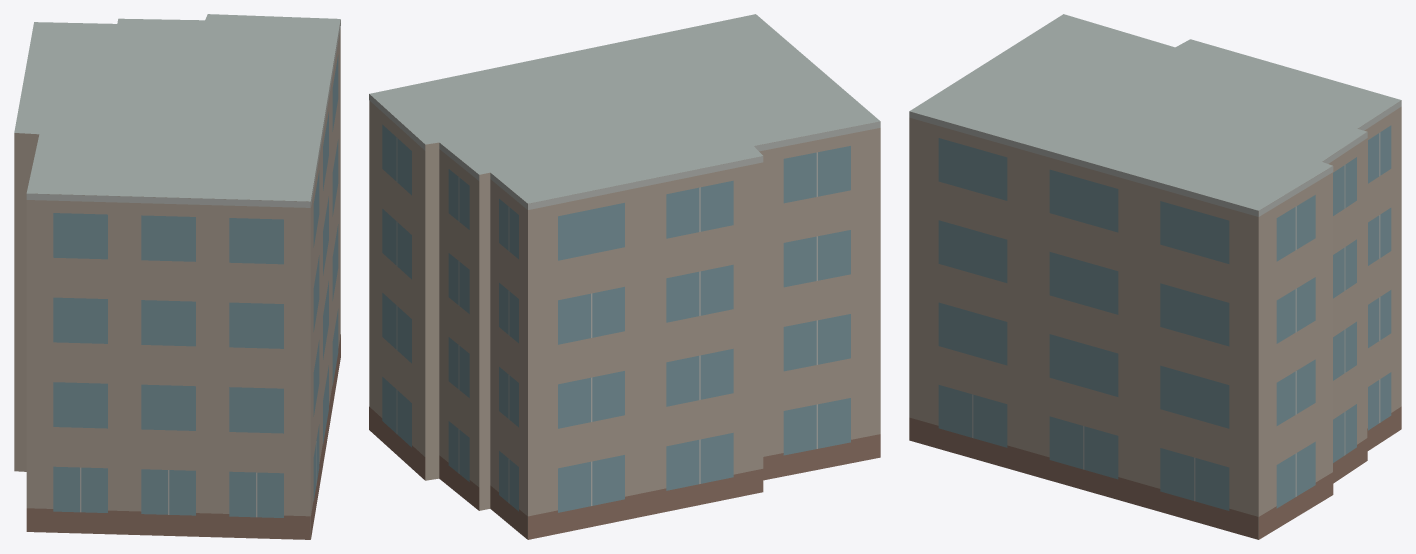
Rendered from survey-upis-32844544.glb.
3 views of the same model, side by side, from view 1: azimuth 30°, elevation 25°; view 2: azimuth 150°, elevation 25°; view 3: azimuth 270°, elevation 25° (orthographic). The views are drawn at different scales.
Visible parts, largest first — view 1: survey-upis-32844544.tmp; view 2: survey-upis-32844544.tmp; view 3: survey-upis-32844544.tmp.
Boxes of the visible parts, x1=… form: survey-upis-32844544.tmp: x1=14, y1=14, x2=340, y2=539; survey-upis-32844544.tmp: x1=369, y1=14, x2=880, y2=539; survey-upis-32844544.tmp: x1=909, y1=14, x2=1401, y2=539.
Bounding box in the file's own units: 16.42 × 12.8 × 17.36.
